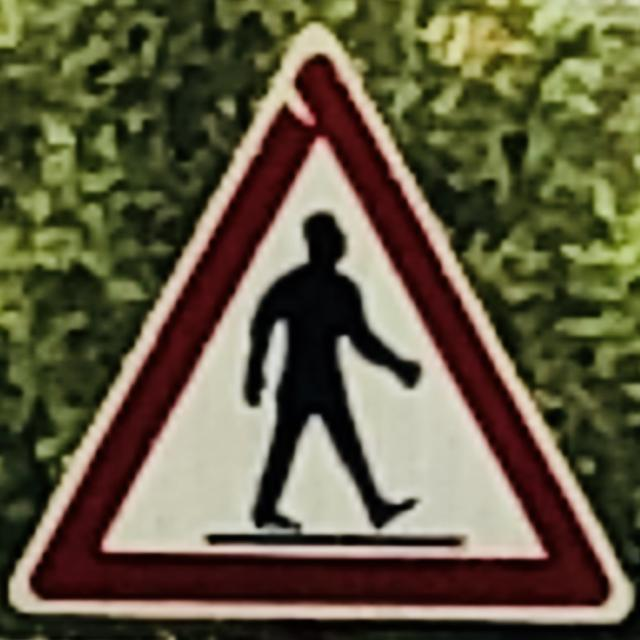pedestrian crossing: (32, 43, 610, 616)
